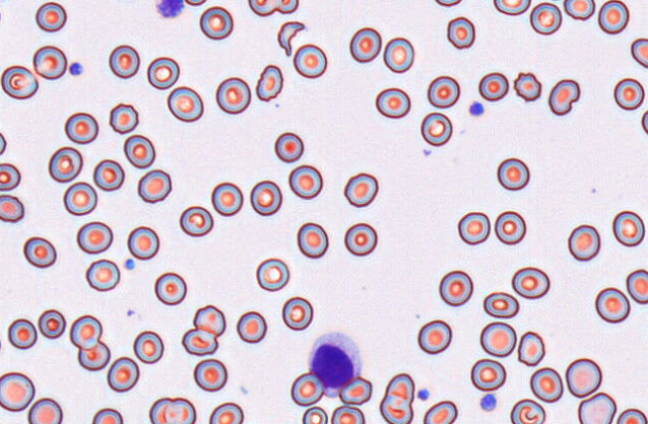MONO: (306, 330, 363, 399)
PLT: (479, 393, 499, 412), (468, 100, 486, 117), (68, 60, 84, 77), (121, 258, 138, 272), (416, 387, 430, 402)
RBC: (379, 372, 414, 423), (565, 357, 602, 398), (0, 371, 35, 411), (166, 85, 203, 122), (215, 76, 251, 114), (479, 321, 516, 357), (0, 64, 38, 99), (148, 396, 196, 423), (594, 287, 630, 323), (511, 266, 550, 299), (48, 146, 83, 182), (438, 270, 473, 306), (343, 172, 378, 207), (529, 366, 563, 402), (249, 179, 282, 216), (76, 221, 113, 254), (612, 210, 645, 247), (567, 224, 600, 261), (577, 392, 616, 423), (293, 43, 327, 78), (137, 168, 171, 203), (417, 319, 451, 354), (288, 164, 322, 199), (32, 45, 67, 79), (69, 314, 102, 350), (106, 356, 139, 392), (470, 358, 506, 391), (63, 181, 97, 215), (255, 257, 289, 291), (85, 258, 120, 291), (296, 222, 328, 258), (383, 36, 414, 73), (290, 372, 323, 406), (193, 358, 227, 391), (199, 6, 233, 39), (344, 222, 377, 256), (457, 211, 490, 245), (64, 111, 98, 144), (420, 111, 452, 146), (127, 225, 159, 260), (211, 181, 243, 216), (349, 27, 381, 62), (427, 75, 460, 108), (529, 2, 562, 35), (146, 56, 179, 89), (496, 157, 529, 190), (123, 134, 155, 168), (494, 210, 526, 244), (281, 296, 313, 330), (154, 271, 186, 305), (108, 44, 140, 78), (597, 0, 629, 34), (375, 87, 410, 118), (181, 327, 218, 356), (23, 236, 56, 268), (179, 205, 213, 236), (77, 340, 110, 371), (93, 158, 124, 191), (236, 310, 267, 343), (613, 77, 644, 110), (133, 330, 163, 364), (483, 291, 519, 318), (35, 1, 66, 32), (108, 102, 138, 134), (446, 16, 475, 49), (7, 318, 37, 349), (27, 397, 62, 423), (37, 308, 66, 339), (274, 131, 303, 162), (478, 72, 509, 101), (510, 398, 545, 423), (247, 0, 299, 16), (423, 400, 458, 423), (626, 268, 648, 304), (208, 401, 243, 423), (0, 194, 24, 222), (563, 0, 595, 20), (330, 405, 365, 423), (0, 162, 20, 191), (493, 0, 531, 15), (630, 37, 648, 68), (91, 407, 123, 423), (616, 408, 647, 423), (301, 406, 328, 423), (434, 0, 462, 7), (641, 108, 648, 135), (0, 130, 6, 155), (184, 0, 207, 6), (0, 322, 3, 358), (112, 0, 142, 2)
Schistocyte: (547, 77, 581, 116), (252, 64, 285, 104), (275, 20, 306, 57), (191, 304, 226, 336), (517, 331, 546, 367), (512, 71, 544, 103), (338, 377, 372, 405)
